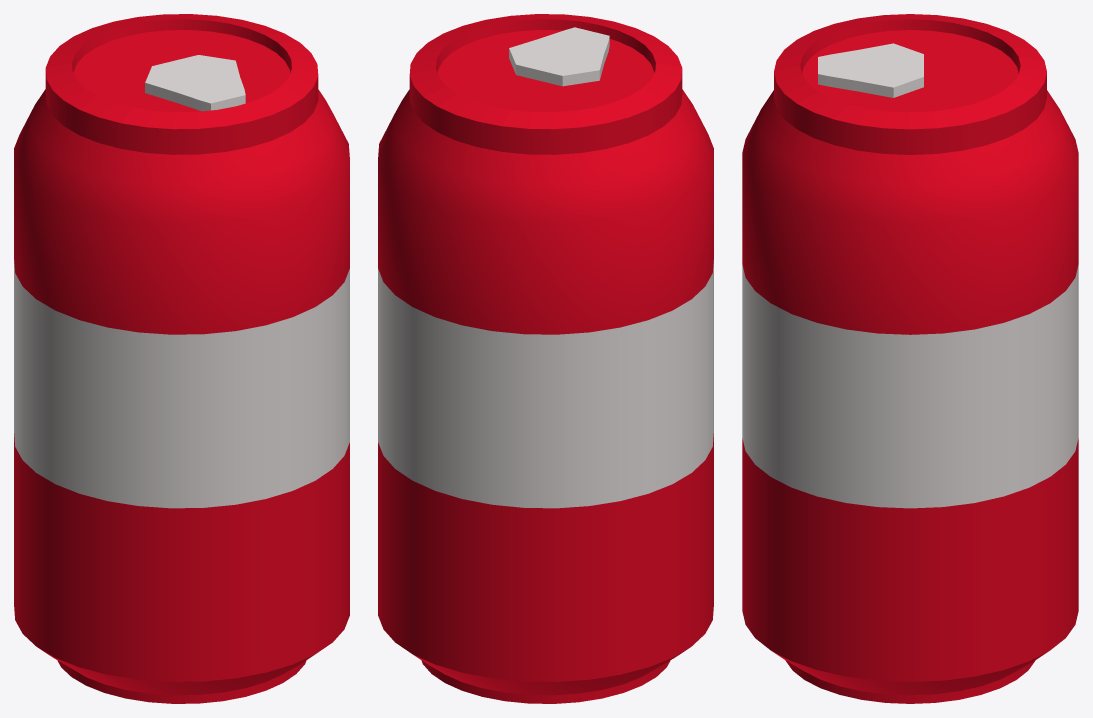
File: CokeTin.fbx
3 renders of one model, left to right at view 1: azimuth 30°, elevation 25°; view 2: azimuth 150°, elevation 25°; view 3: azimuth 270°, elevation 25°, orthographic.
Visible parts, largest first — view 1: Cylinder; view 2: Cylinder; view 3: Cylinder.
Part boxes in pixels (x1,y1,x2,y2): Cylinder: (14,14,349,703); Cylinder: (378,14,713,703); Cylinder: (742,14,1078,703).
Size of the model in its own units: 129 by 249 by 129.
